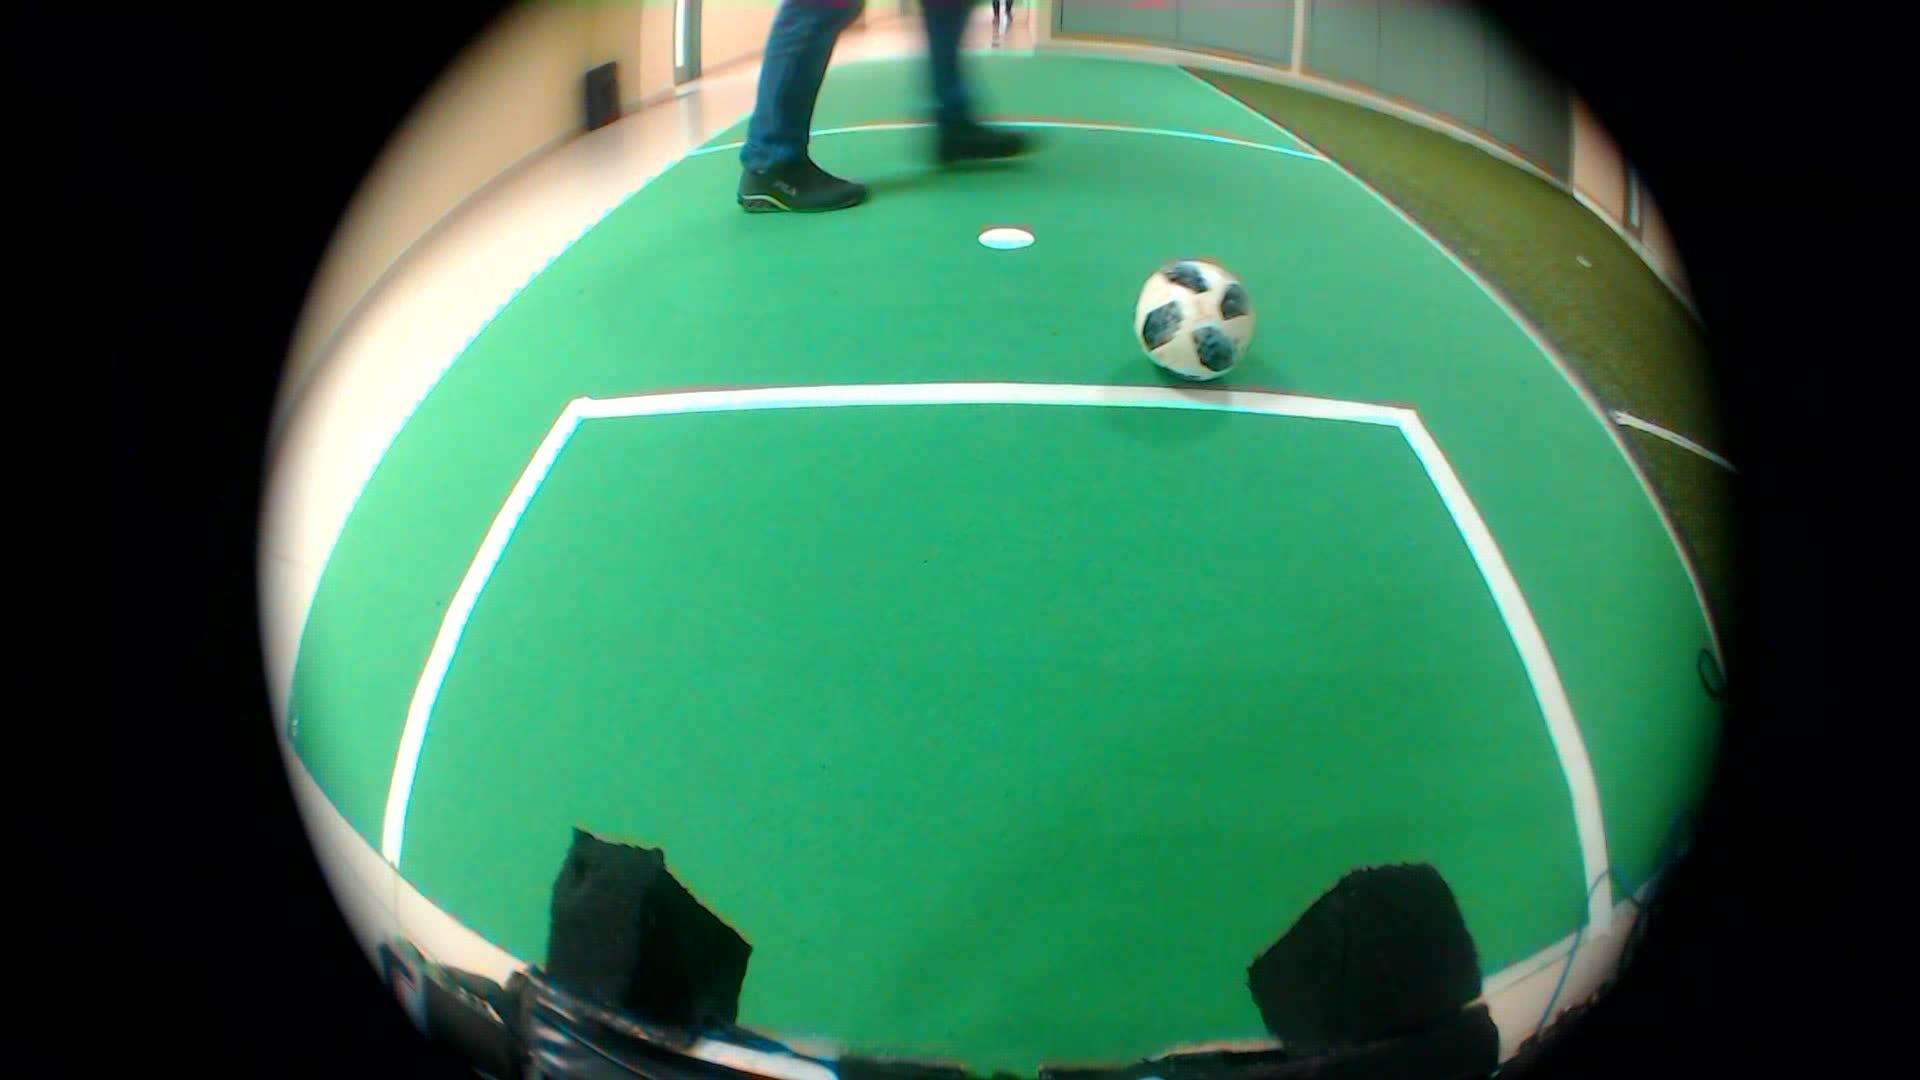ball: (1120, 241, 1270, 398)
